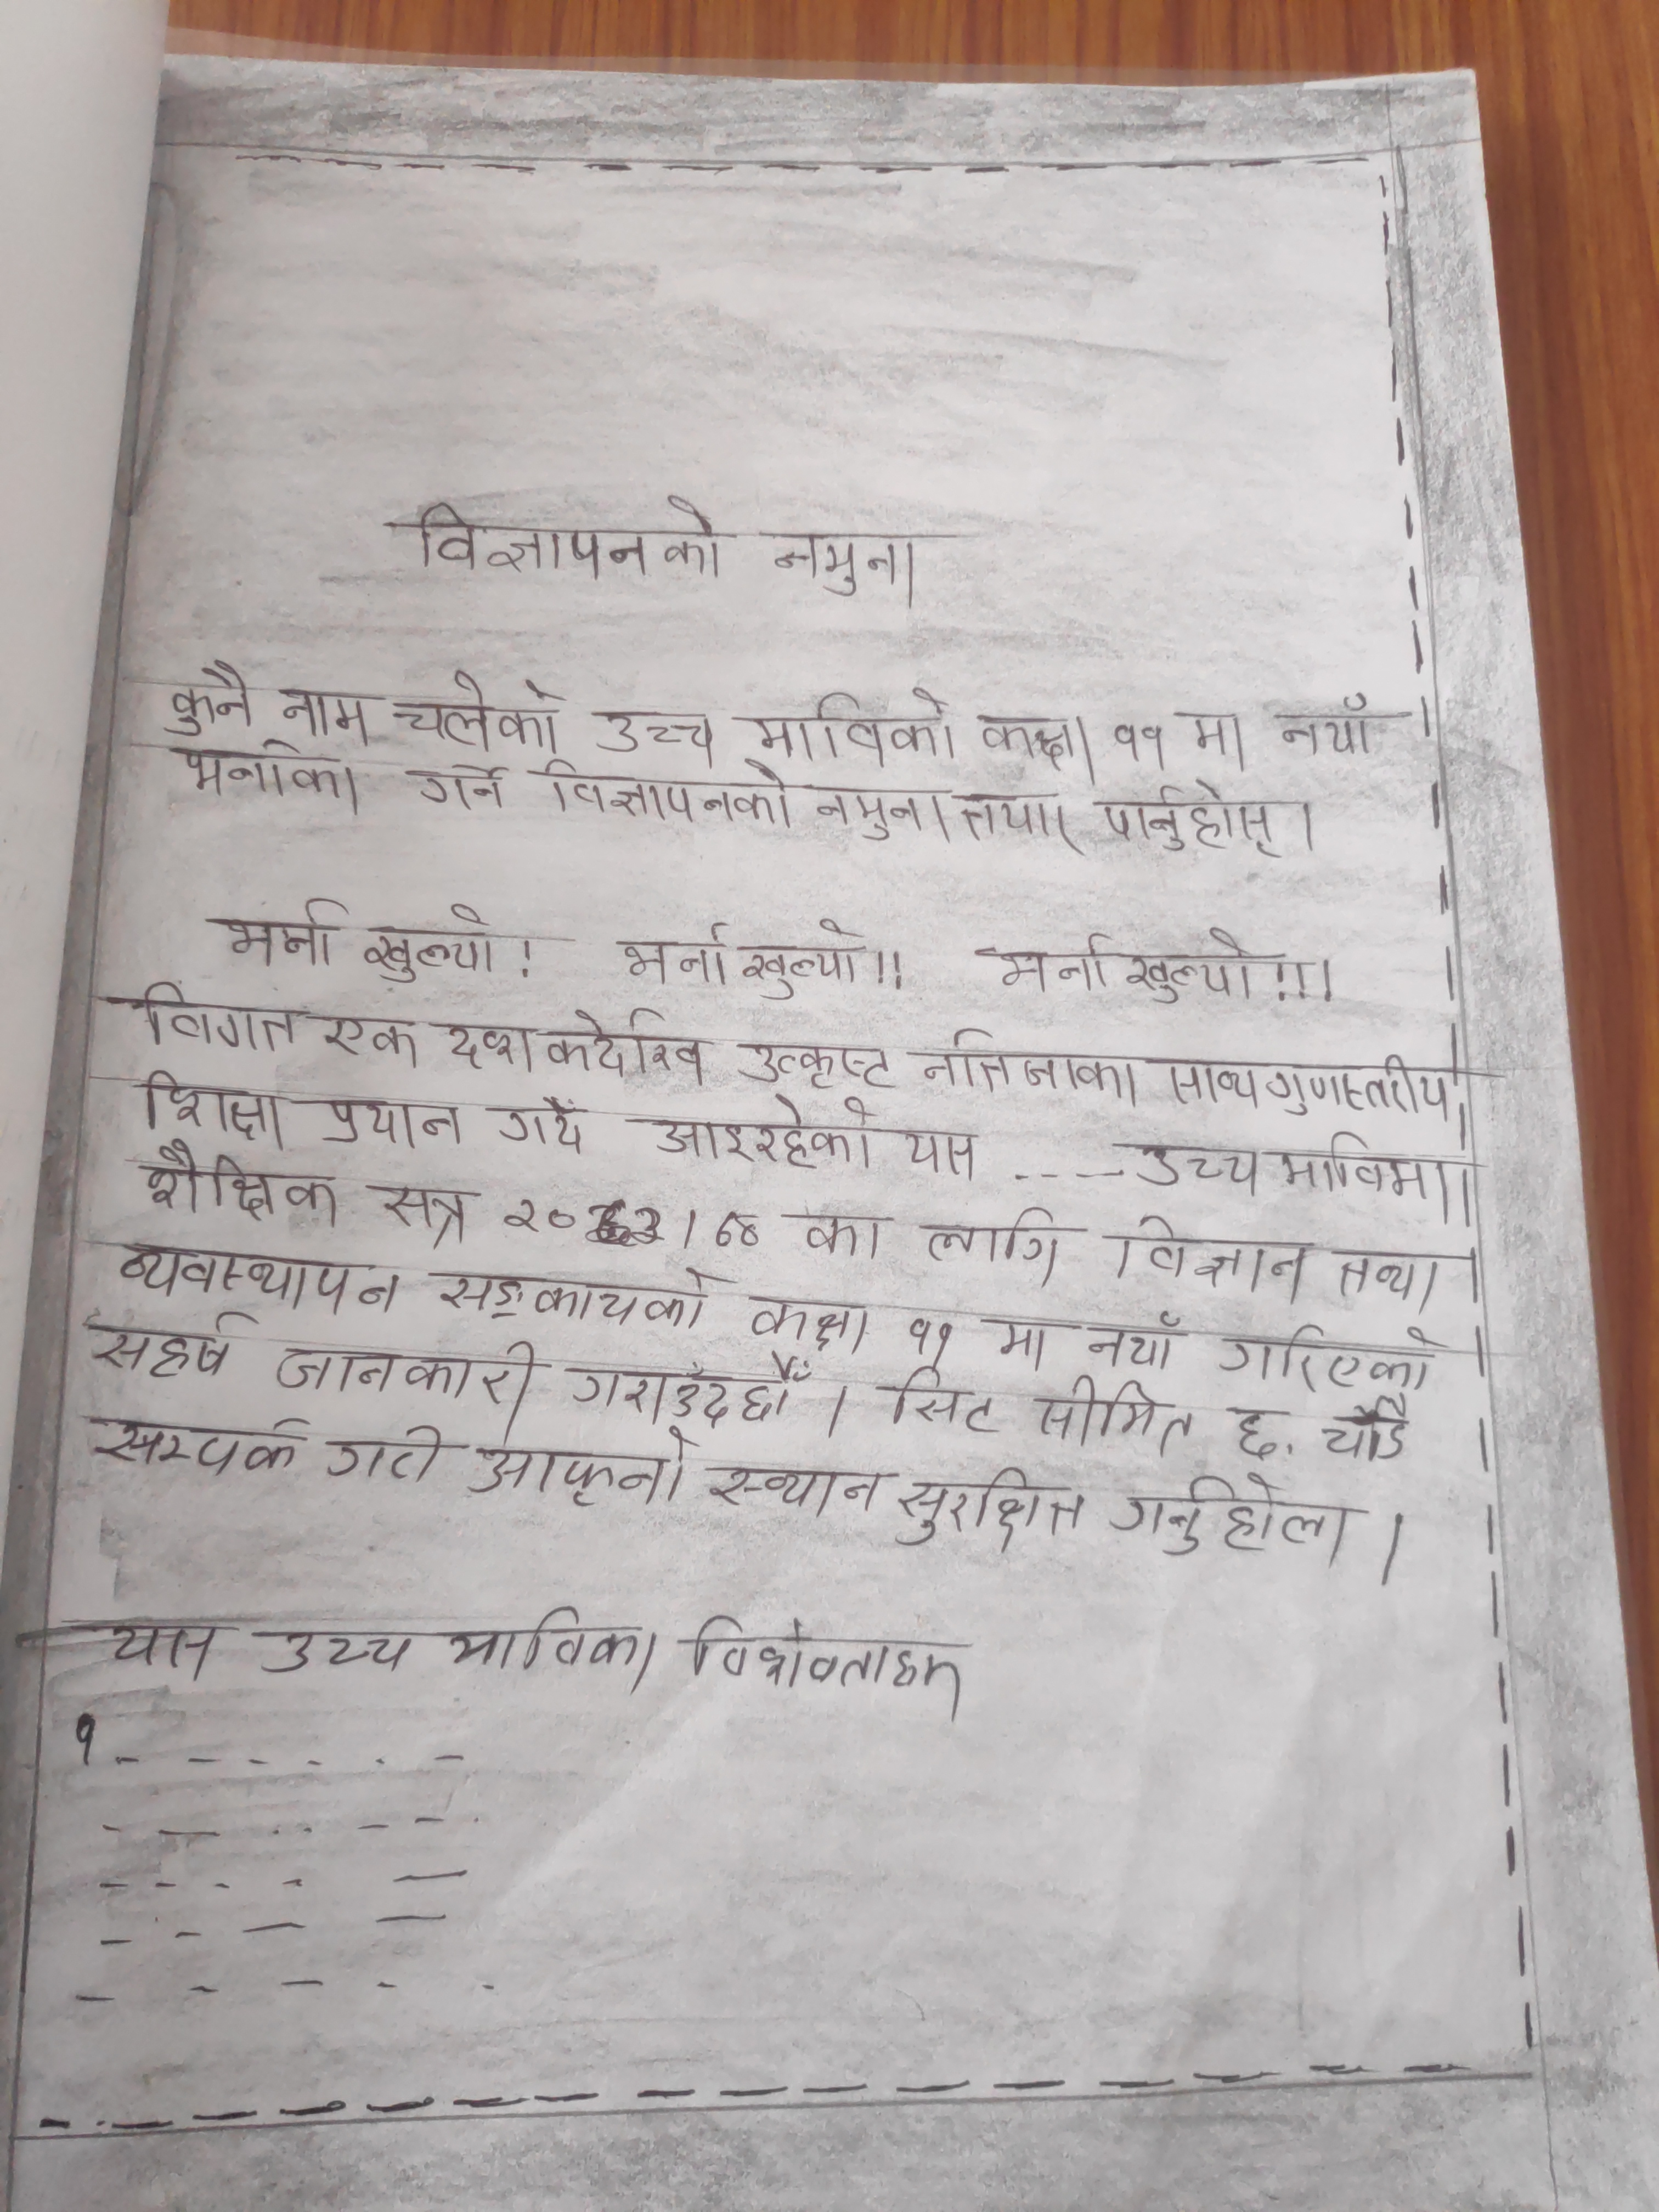text: (687, 1609, 972, 1717), (387, 496, 730, 583), (1124, 1127, 1453, 1217), (1110, 1472, 1359, 1575), (985, 927, 1255, 1010), (443, 1005, 711, 1089), (113, 1237, 401, 1310), (1154, 1050, 1453, 1120), (427, 1263, 711, 1336), (629, 1094, 875, 1177), (467, 1428, 694, 1515), (441, 1606, 664, 1691), (561, 1353, 814, 1426), (535, 759, 793, 831), (918, 1026, 1140, 1106), (132, 1148, 342, 1231), (272, 1345, 540, 1409), (896, 1465, 1089, 1550), (1114, 1219, 1309, 1303), (166, 738, 364, 820), (741, 688, 957, 763), (1220, 1320, 1436, 1393), (749, 528, 945, 608), (1094, 782, 1290, 862), (85, 1409, 308, 1479), (394, 669, 561, 751), (505, 1197, 763, 1249), (1033, 1376, 1194, 1458), (361, 900, 502, 986), (139, 979, 300, 1054), (84, 1315, 251, 1386), (924, 1204, 1065, 1284), (139, 1066, 282, 1144), (697, 1461, 887, 1517), (739, 914, 861, 1000), (216, 897, 350, 967), (805, 780, 946, 845), (321, 1421, 453, 1487), (951, 789, 1080, 857), (737, 1036, 897, 1090), (884, 1369, 1007, 1439), (612, 920, 735, 988), (251, 1622, 416, 1672), (162, 653, 258, 740), (317, 1096, 469, 1150), (1274, 691, 1394, 759), (1328, 1247, 1453, 1312), (746, 1285, 868, 1352), (586, 704, 714, 765), (971, 711, 1093, 775), (103, 1616, 221, 1681), (1319, 1392, 1415, 1467), (272, 686, 380, 747), (314, 1008, 420, 1069), (495, 1090, 598, 1153), (1082, 1310, 1183, 1372), (397, 761, 516, 810), (789, 1207, 887, 1264), (378, 1186, 471, 1245), (894, 1125, 981, 1184), (1175, 709, 1262, 766), (995, 1312, 1054, 1372), (1225, 1402, 1283, 1463), (908, 1313, 958, 1366), (1112, 721, 1169, 766)
